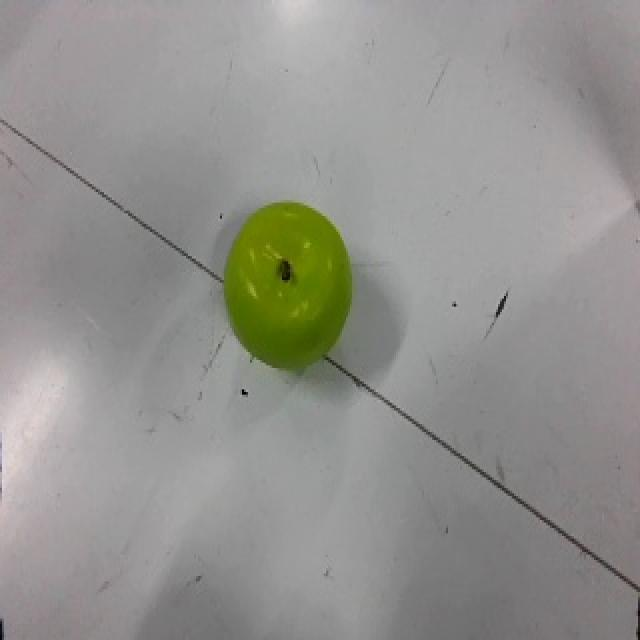apple: (222, 199, 356, 375)
